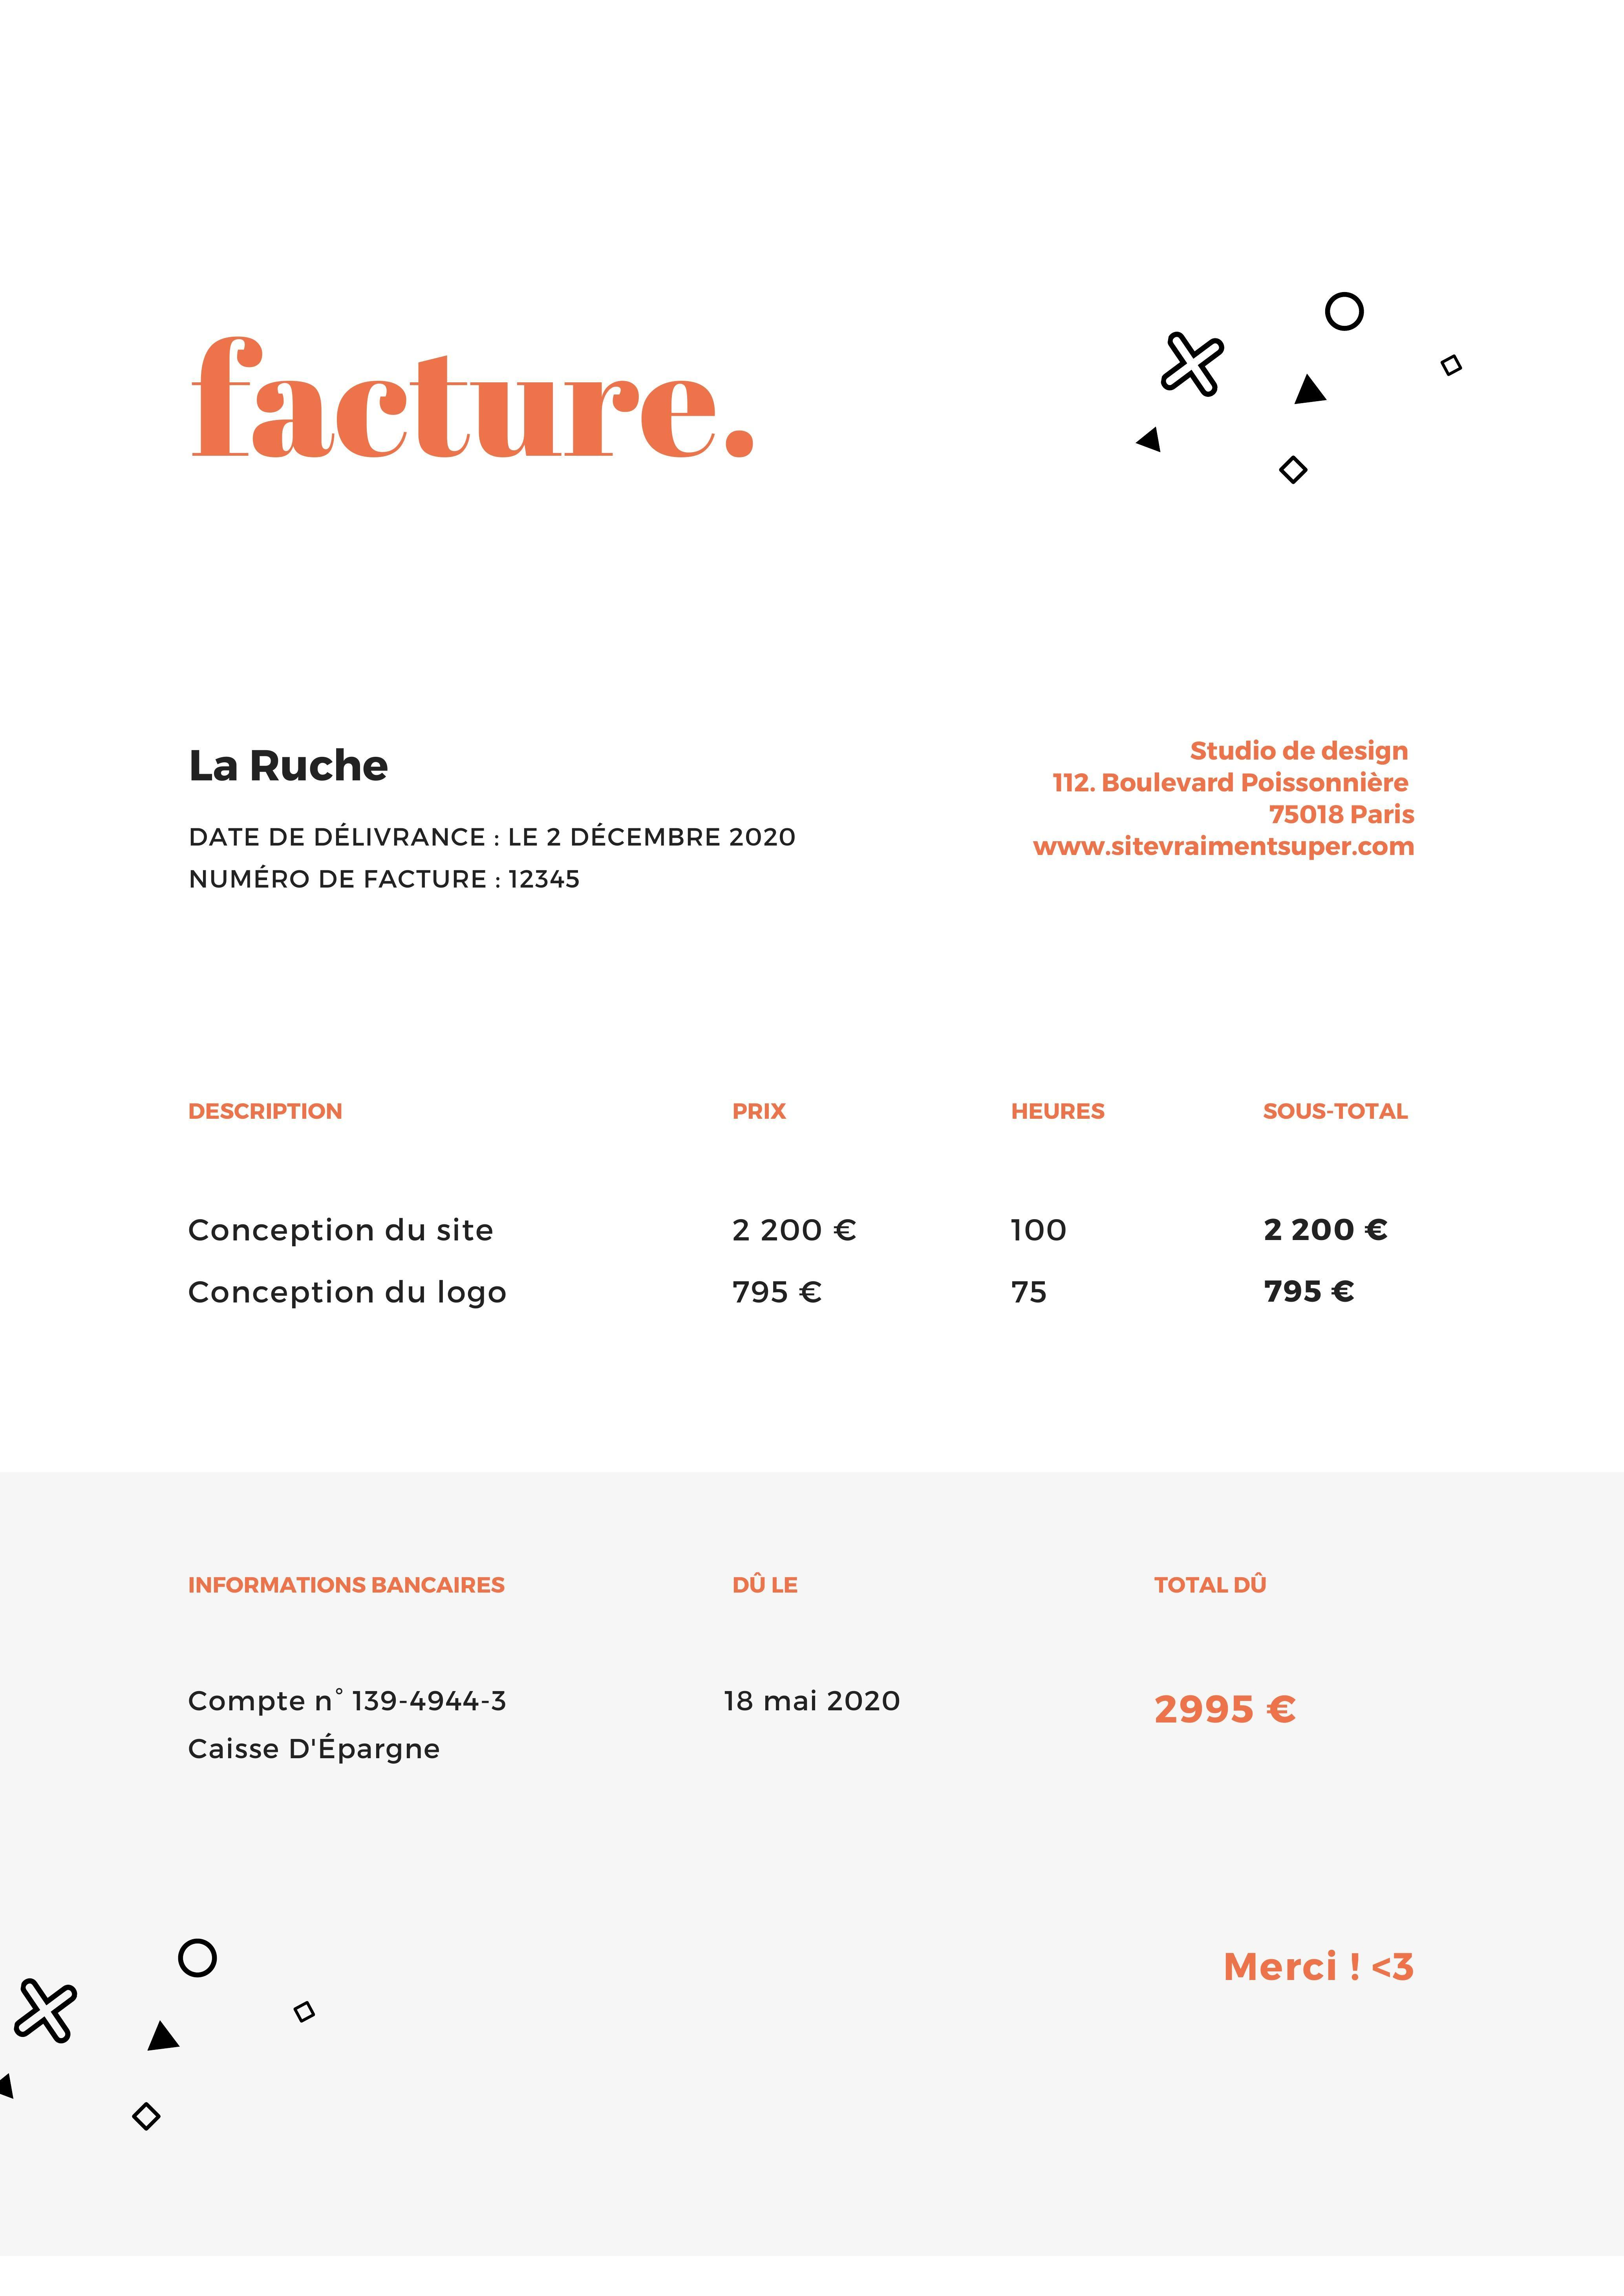ROI: (170, 1099, 1431, 1322), (166, 1552, 936, 1807), (1099, 1550, 1362, 1761), (178, 816, 825, 897), (174, 732, 403, 802)
